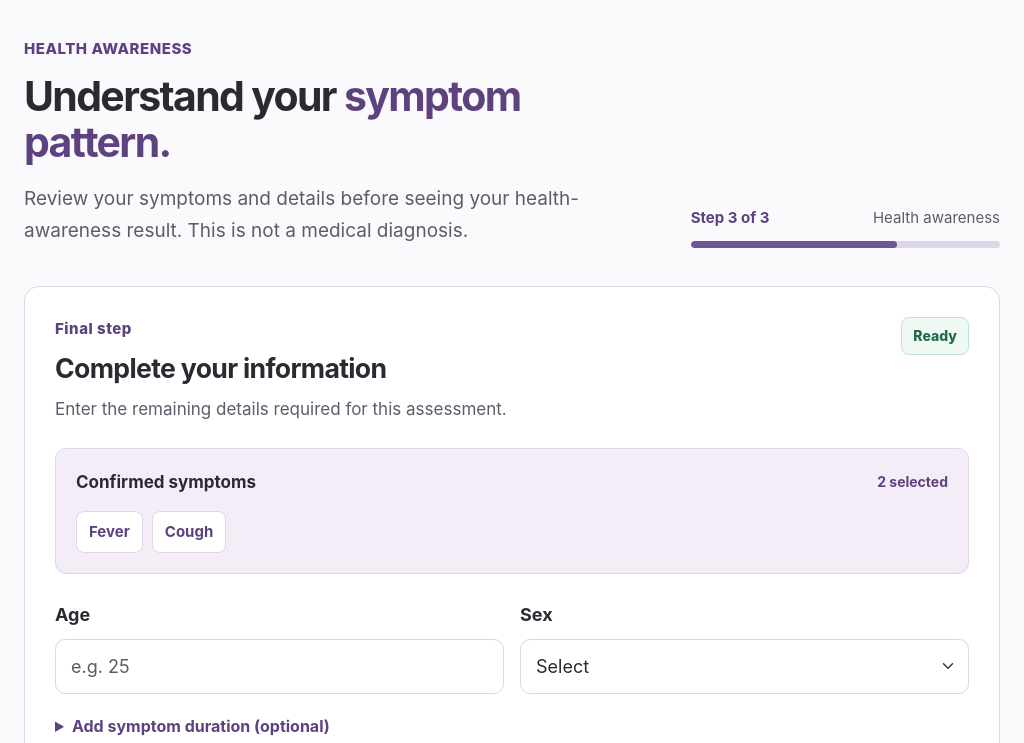
Scenario: Prediction submission workflow › prevents submission with an invalid age
In the number field labelled "Age": (280, 666) [55, 639, 504, 694], type "150"
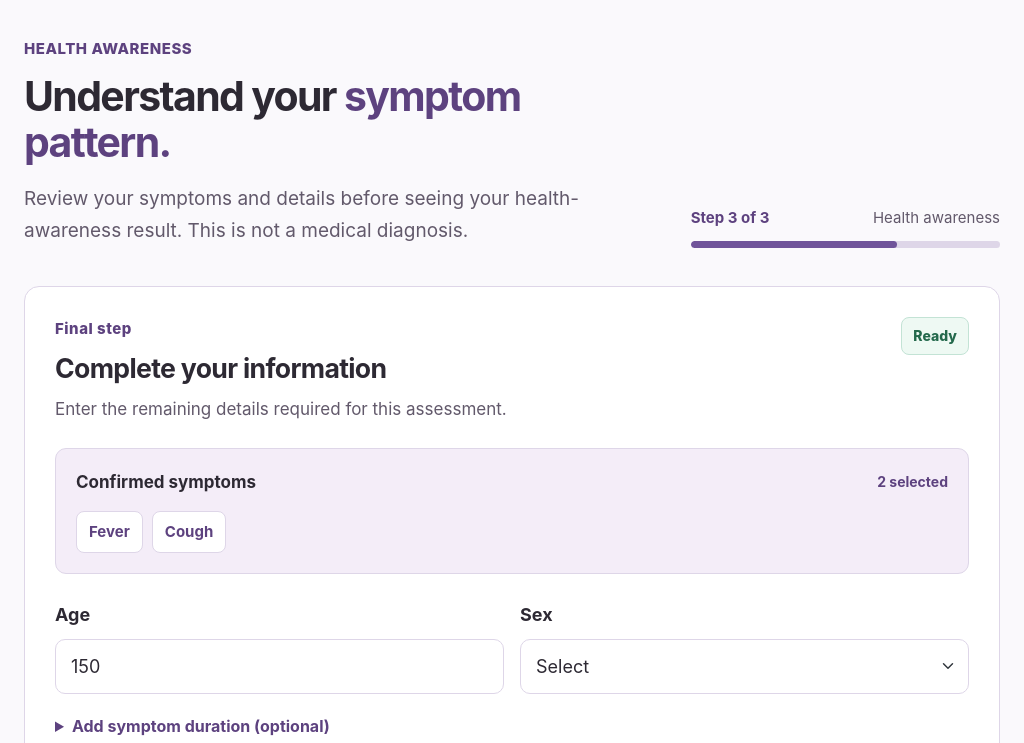
Select "Male" in the dropdown labelled "Sex": (744, 666) [520, 639, 969, 694]
(page scrolled)
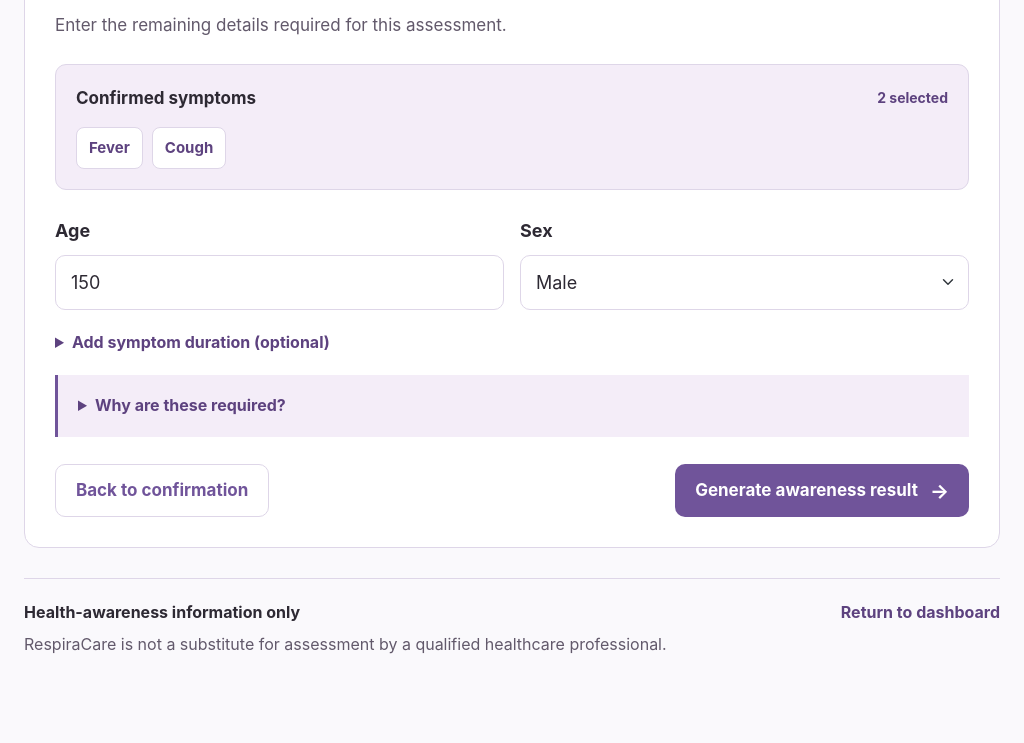
Submit the form named "Generate awareness result", box [55, 201, 969, 517]
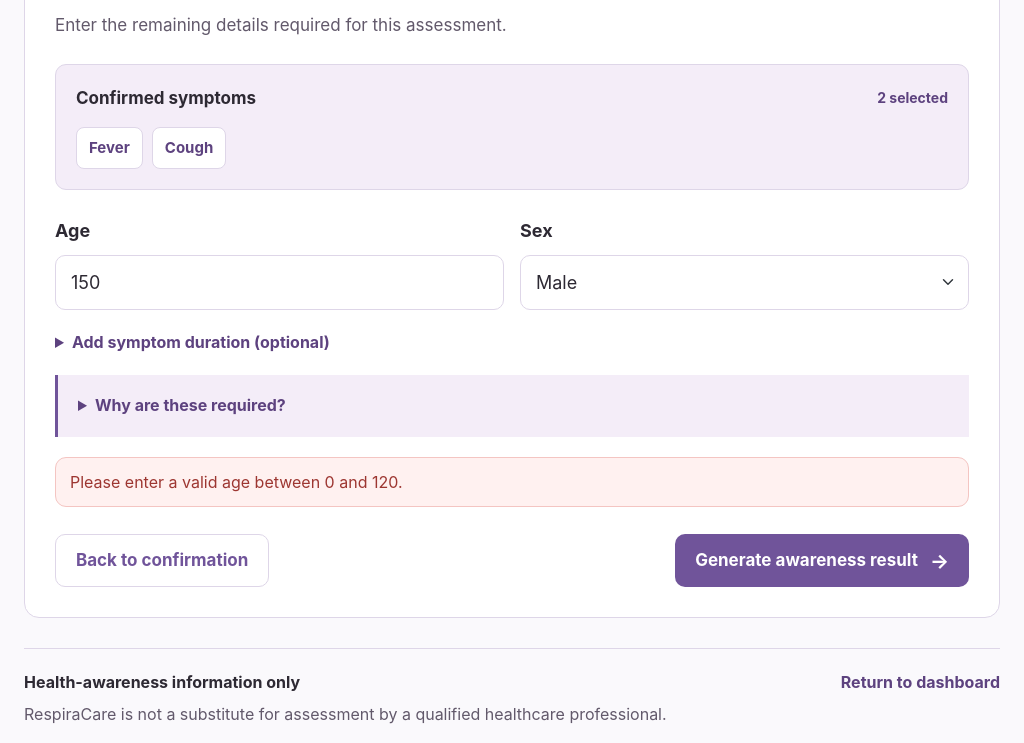
Result: the message reads "Please enter a valid age between 0 and 120." at [70, 472, 402, 492]
